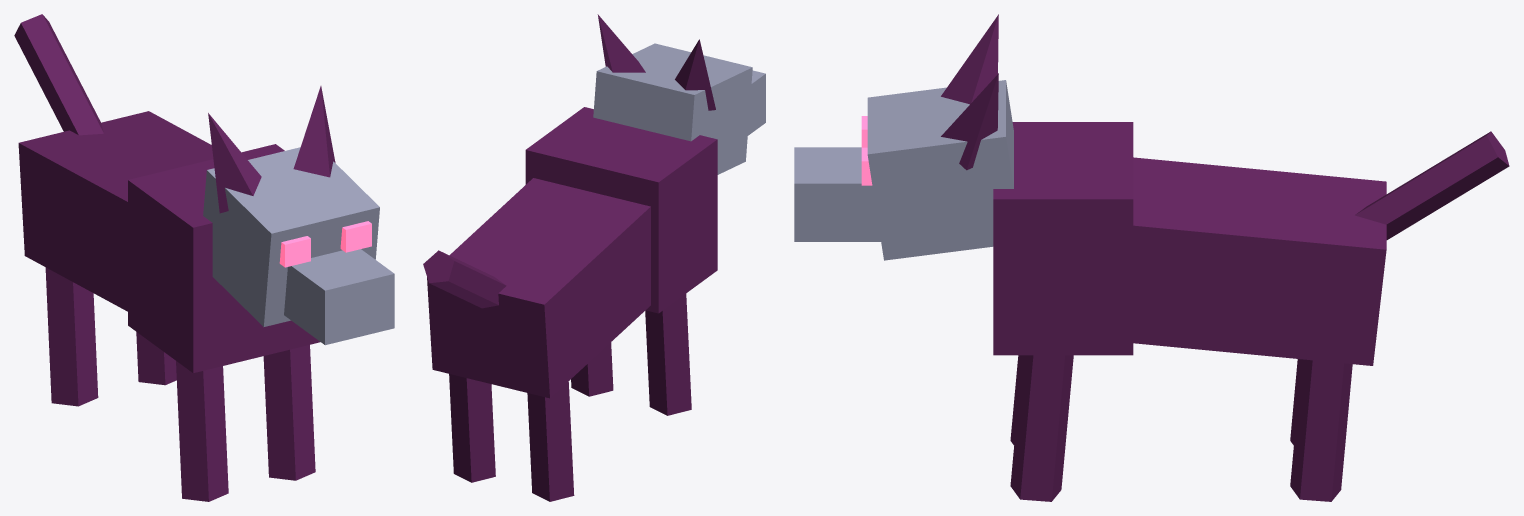
The model's file is hound.glb.
3 views of the same model, side by side, from view 1: azimuth 30°, elevation 25°; view 2: azimuth 150°, elevation 25°; view 3: azimuth 270°, elevation 25° (orthographic). The views are drawn at different scales.
Visible parts, largest first — view 1: Body; view 2: Body; view 3: Body.
Part boxes in pixels (x1=…): Body: x1=14, y1=14, x2=394, y2=501; Body: x1=423, y1=14, x2=765, y2=501; Body: x1=794, y1=14, x2=1509, y2=501.
Size of the model in its own units: 0.34 by 0.8764 by 1.33.
